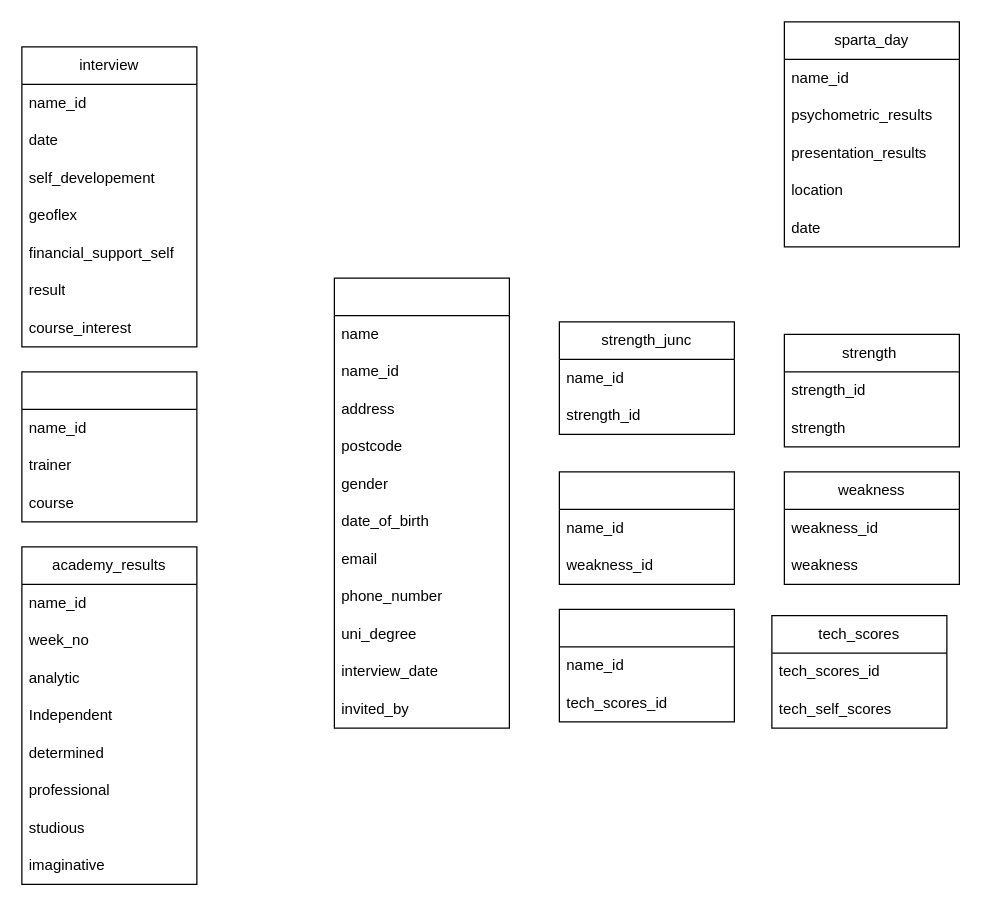
Some shapes in this 981 by 906 pixel diagram are drawn without their labels. Each missing label, with the box of its shape:
academy: (21, 371, 197, 522)
candidate: (333, 277, 509, 728)
tech_junc: (558, 608, 734, 722)
weakness_junc: (558, 471, 734, 584)
